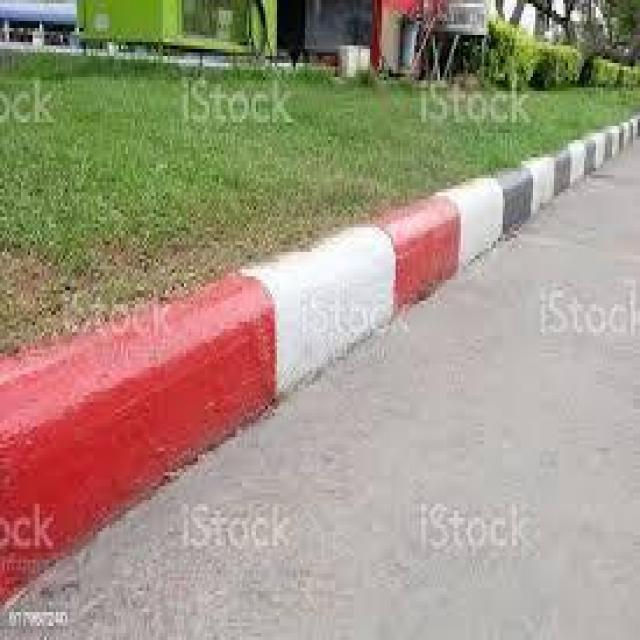curb: (8, 276, 325, 608), (258, 208, 468, 371), (455, 116, 630, 262)
